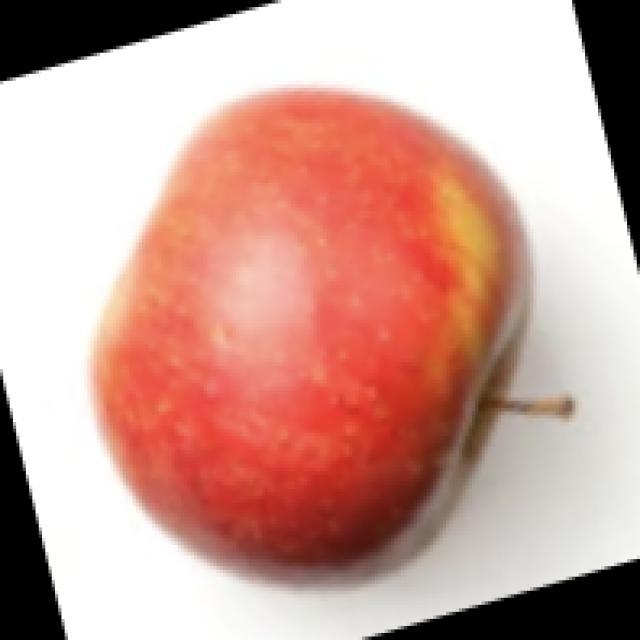Fresh Apple: (97, 75, 508, 575)
